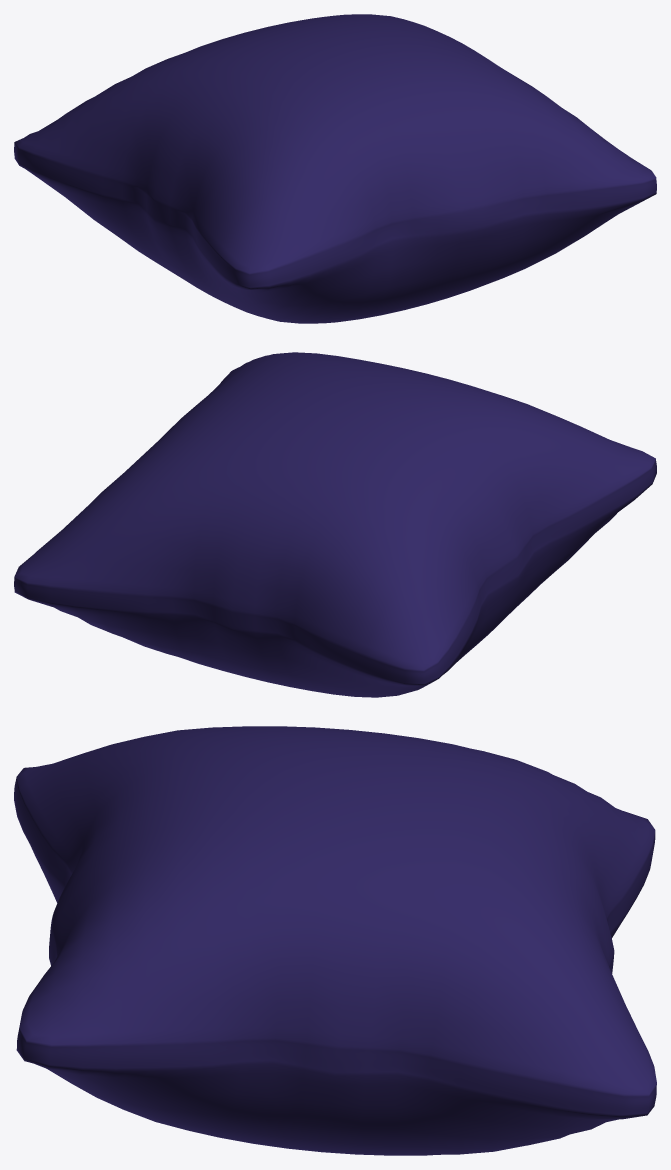
Rendered from pillow.fbx.
The picture shows the model from 3 angles, top to bottom: view 1: azimuth 30°, elevation 25°; view 2: azimuth 150°, elevation 25°; view 3: azimuth 270°, elevation 25°; orthographic projection. The views are drawn at different scales.
Parts seen in each view (by area): view 1: pCube1; view 2: pCube1; view 3: pCube1.
Part boxes in pixels (x1,y1,x2,y2): pCube1: [14, 14, 656, 323]; pCube1: [14, 352, 656, 697]; pCube1: [14, 726, 656, 1155].
Bounding box in the file's own units: 2.37 × 1.35 × 2.35.
